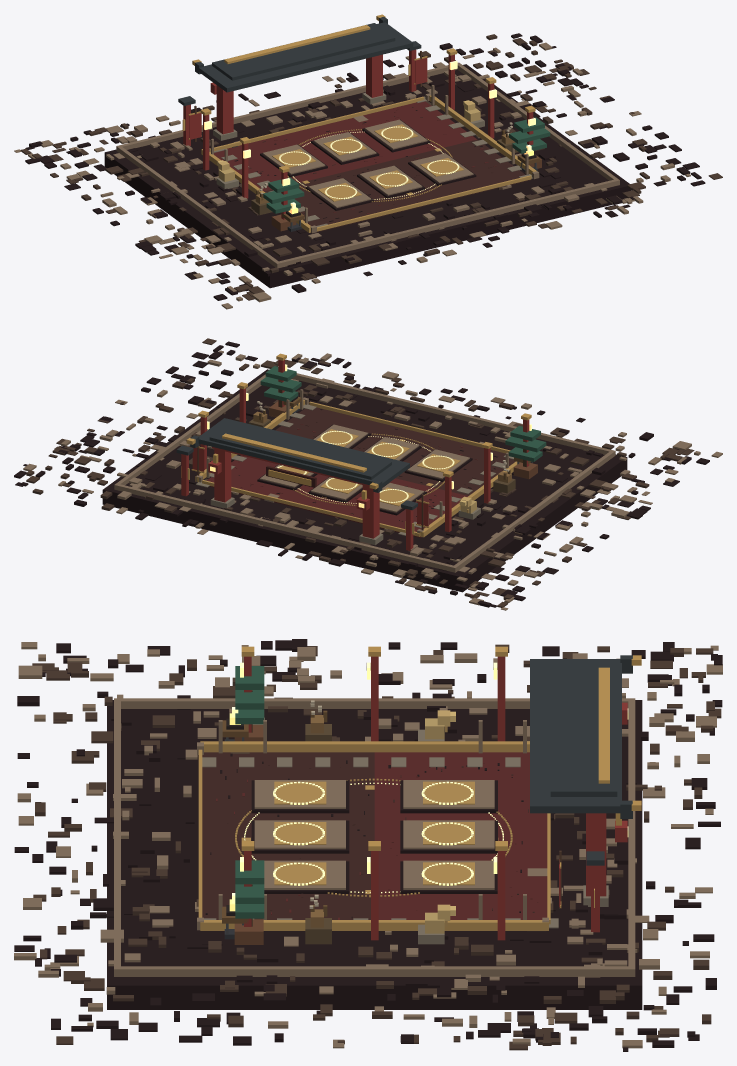
The model's file is preview-dynasty.glb.
3 renders of one model, top to bottom at view 1: azimuth 30°, elevation 25°; view 2: azimuth 150°, elevation 25°; view 3: azimuth 270°, elevation 25°, orthographic. The views are drawn at different scales.
Parts seen in each view (by area): view 1: Miniature_Plinth, Miniature_Outer_Rubble, Miniature_Six_Grounded_Foundations (×2), Miniature_Frame, Miniature_Enemy_Floor, Miniature_Palace_Roof, Miniature_Friendly_Floor, Miniature_Arena_Curb, Miniature_Potted_Pines, Miniature_Garden_Columns, Miniature_Palace_Gate, Miniature_Courtyard_Path (+5 smaller); view 2: Miniature_Outer_Rubble, Miniature_Plinth, Miniature_Frame, Miniature_Palace_Roof, Miniature_Six_Grounded_Foundations (×2), Miniature_Friendly_Floor, Miniature_Enemy_Floor, Miniature_Arena_Curb, Miniature_Potted_Pines, Miniature_Palace_Gate, Miniature_Garden_Columns, Miniature_Palace_Wall (+4 smaller); view 3: Miniature_Plinth, Miniature_Outer_Rubble, Miniature_Six_Grounded_Foundations (×2), Miniature_Enemy_Floor, Miniature_Friendly_Floor, Miniature_Palace_Roof, Miniature_Frame, Miniature_Arena_Curb, Miniature_Garden_Columns, Miniature_Potted_Pines, Miniature_Stone_Lions, Miniature_Courtyard_Path (+5 smaller).
Boxes of the visible parts, bbox=[...] form: Miniature_Plinth: bbox=[104, 64, 631, 288]; Miniature_Outer_Rubble: bbox=[14, 33, 722, 309]; Miniature_Six_Grounded_Foundations (×2): bbox=[260, 119, 476, 210]; Miniature_Frame: bbox=[116, 62, 619, 268]; Miniature_Enemy_Floor: bbox=[214, 101, 476, 191]; Miniature_Palace_Roof: bbox=[192, 14, 413, 92]; Miniature_Friendly_Floor: bbox=[264, 139, 530, 233]; Miniature_Arena_Curb: bbox=[201, 95, 536, 232]; Miniature_Potted_Pines: bbox=[263, 117, 550, 231]; Miniature_Garden_Columns: bbox=[200, 48, 535, 219]; Miniature_Palace_Gate: bbox=[213, 54, 386, 140]; Miniature_Courtyard_Path: bbox=[214, 96, 532, 227]; Miniature_Outer_Rubble: bbox=[14, 338, 722, 610]; Miniature_Plinth: bbox=[102, 369, 627, 592]; Miniature_Frame: bbox=[114, 373, 615, 572]; Miniature_Palace_Roof: bbox=[186, 418, 409, 492]; Miniature_Six_Grounded_Foundations (×2): bbox=[257, 424, 472, 515]; Miniature_Friendly_Floor: bbox=[275, 407, 515, 495]; Miniature_Enemy_Floor: bbox=[207, 455, 468, 537]; Miniature_Arena_Curb: bbox=[195, 399, 519, 537]; Miniature_Potted_Pines: bbox=[260, 366, 546, 479]; Miniature_Palace_Gate: bbox=[210, 447, 383, 545]; Miniature_Garden_Columns: bbox=[198, 353, 531, 531]; Miniature_Palace_Wall: bbox=[176, 445, 417, 550]; Miniature_Plinth: bbox=[107, 700, 642, 1009]; Miniature_Outer_Rubble: bbox=[14, 639, 722, 1051]; Miniature_Six_Grounded_Foundations (×2): bbox=[251, 780, 497, 893]; Miniature_Enemy_Floor: bbox=[374, 752, 547, 919]; Miniature_Friendly_Floor: bbox=[202, 752, 374, 919]; Miniature_Palace_Roof: bbox=[530, 655, 641, 818]; Miniature_Frame: bbox=[114, 698, 635, 976]; Miniature_Arena_Curb: bbox=[198, 741, 550, 930]; Miniature_Garden_Columns: bbox=[241, 646, 507, 940]; Miniature_Potted_Pines: bbox=[234, 666, 264, 944]; Miniature_Stone_Lions: bbox=[418, 710, 455, 944]; Miniature_Courtyard_Path: bbox=[202, 757, 558, 928].
Size of the model in its own units: 13.77 by 2.24 by 10.06.
